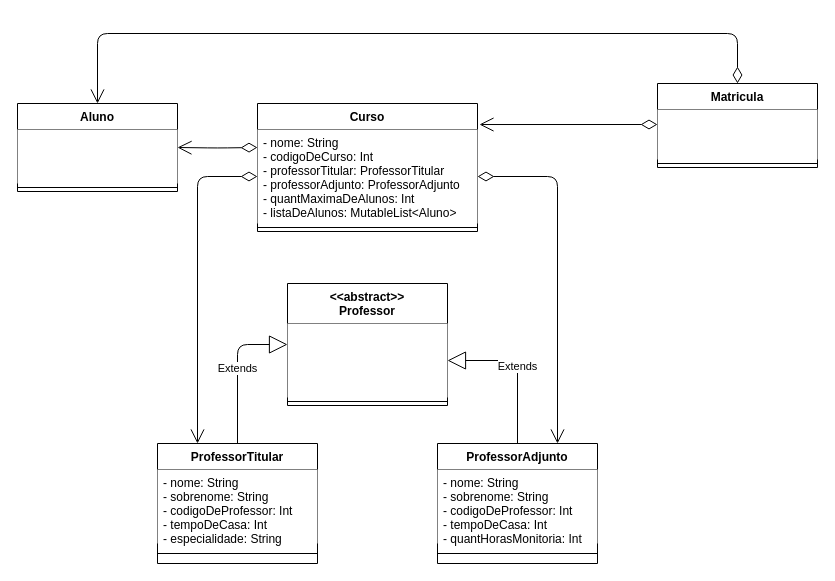
Some shapes in this 835 by 581 pixel diagram are drawn without their labels. The shapes that lost their labels are listed below. From the top down, each one's centre as x and y in pixels, then its label:
At point 737,134: "- aluno: Aluno - curso: Curso - matricula: Date".
At point 97,156: "- nome: String - sobrenome: String - codigoDeAluno: Int".
At point 367,360: "- nome: String - sobrenome: String - codigoDeProfessor: Int - tempoDeCasa: Int".
